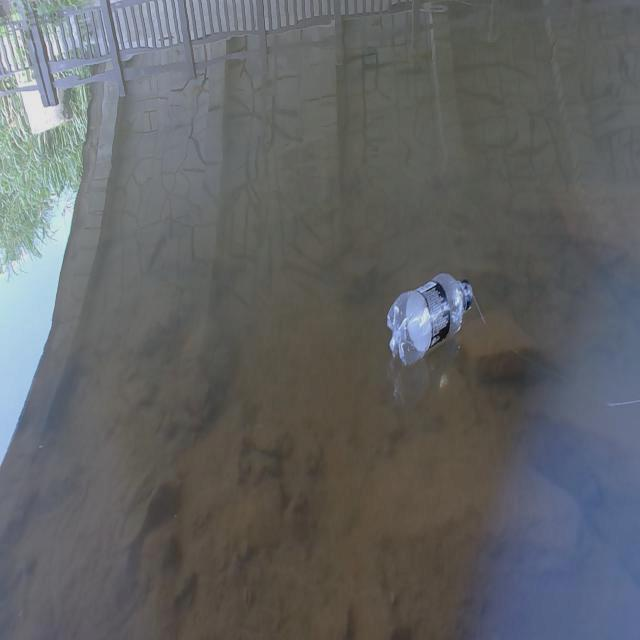bottle: (368, 233, 498, 389)
